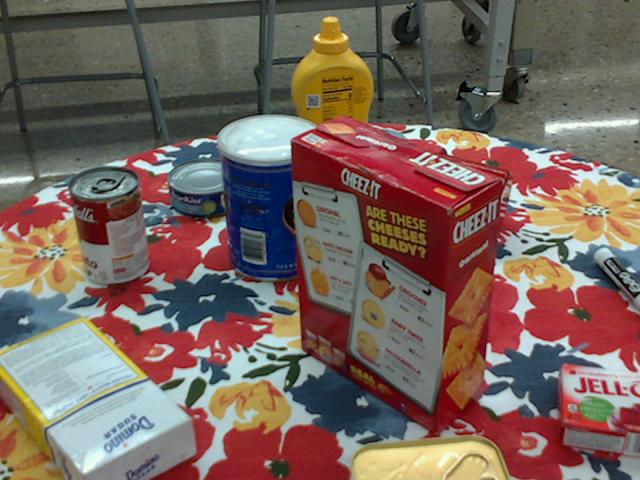cracker_box: (289, 118, 501, 437)
gelatin_box: (557, 363, 639, 454)
large_marker: (593, 245, 639, 308)
master_chef_can: (217, 114, 323, 281)
mug: (416, 148, 510, 241)
mustard_bottle: (290, 18, 373, 183)
potted_meat_can: (348, 435, 509, 479)
sugar_box: (0, 320, 195, 479)
tomato_soup_can: (69, 166, 148, 285)
tuna_fish_can: (168, 158, 243, 216)
